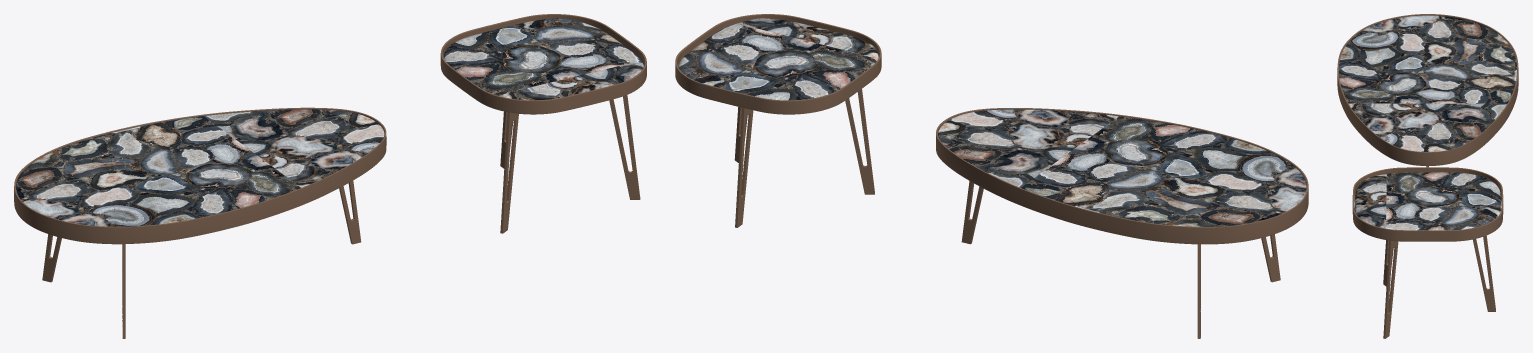
The model's file is SBH_GEO.glb.
3 views of the same model, side by side, from view 1: azimuth 30°, elevation 25°; view 2: azimuth 150°, elevation 25°; view 3: azimuth 270°, elevation 25° (orthographic). The views are drawn at different scales.
Parts seen in each view (by area): view 1: GEO; view 2: GEO; view 3: GEO.
Part boxes in pixels (x1,y1,x2,y2): GEO: [14, 14, 646, 338]; GEO: [675, 14, 1308, 338]; GEO: [1337, 14, 1518, 338].
Bounding box in the file's own units: 2.04 × 0.4549 × 0.6644.
2 materials, 1 textured.
